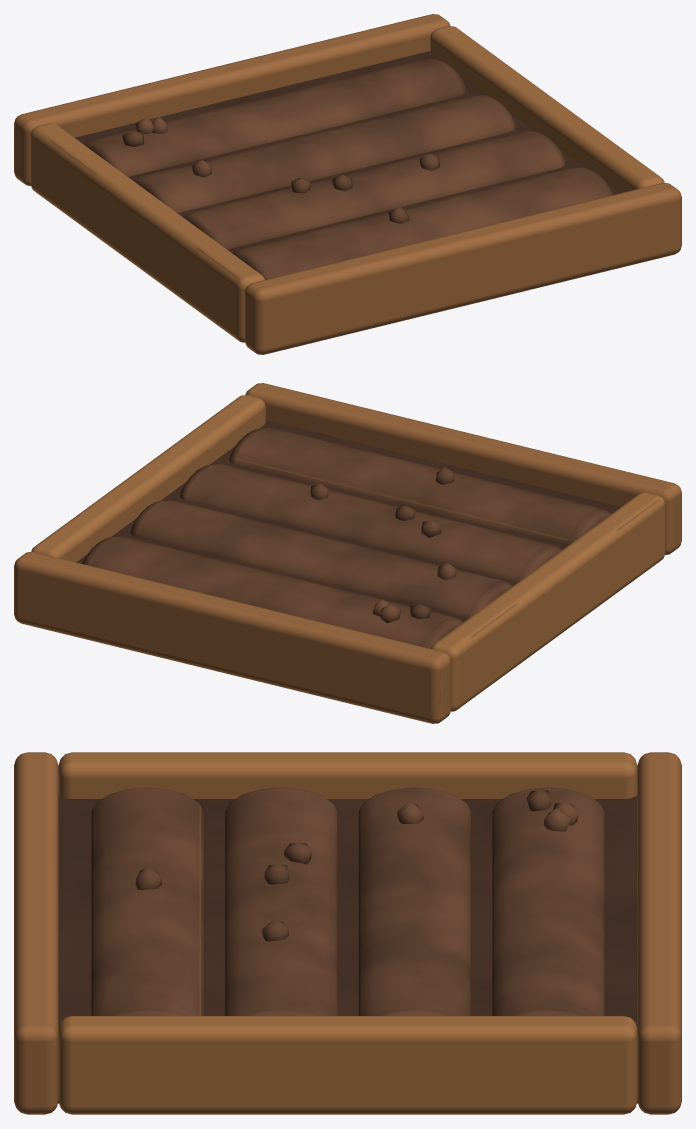
The model's file is crop_wheat_0.glb.
3 views of the same model, one above another, from view 1: azimuth 30°, elevation 25°; view 2: azimuth 150°, elevation 25°; view 3: azimuth 270°, elevation 25° (orthographic). The views are drawn at different scales.
Parts seen in each view (by area): view 1: bed; view 2: bed; view 3: bed.
Boxes of the visible parts, x1,y1,x2,y2 form: bed: (14,14,681,354); bed: (14,383,681,723); bed: (14,752,681,1114).
Bounding box in the file's own units: 1.5 × 0.238 × 1.5.
Materials: 1 (1 with a texture image).
